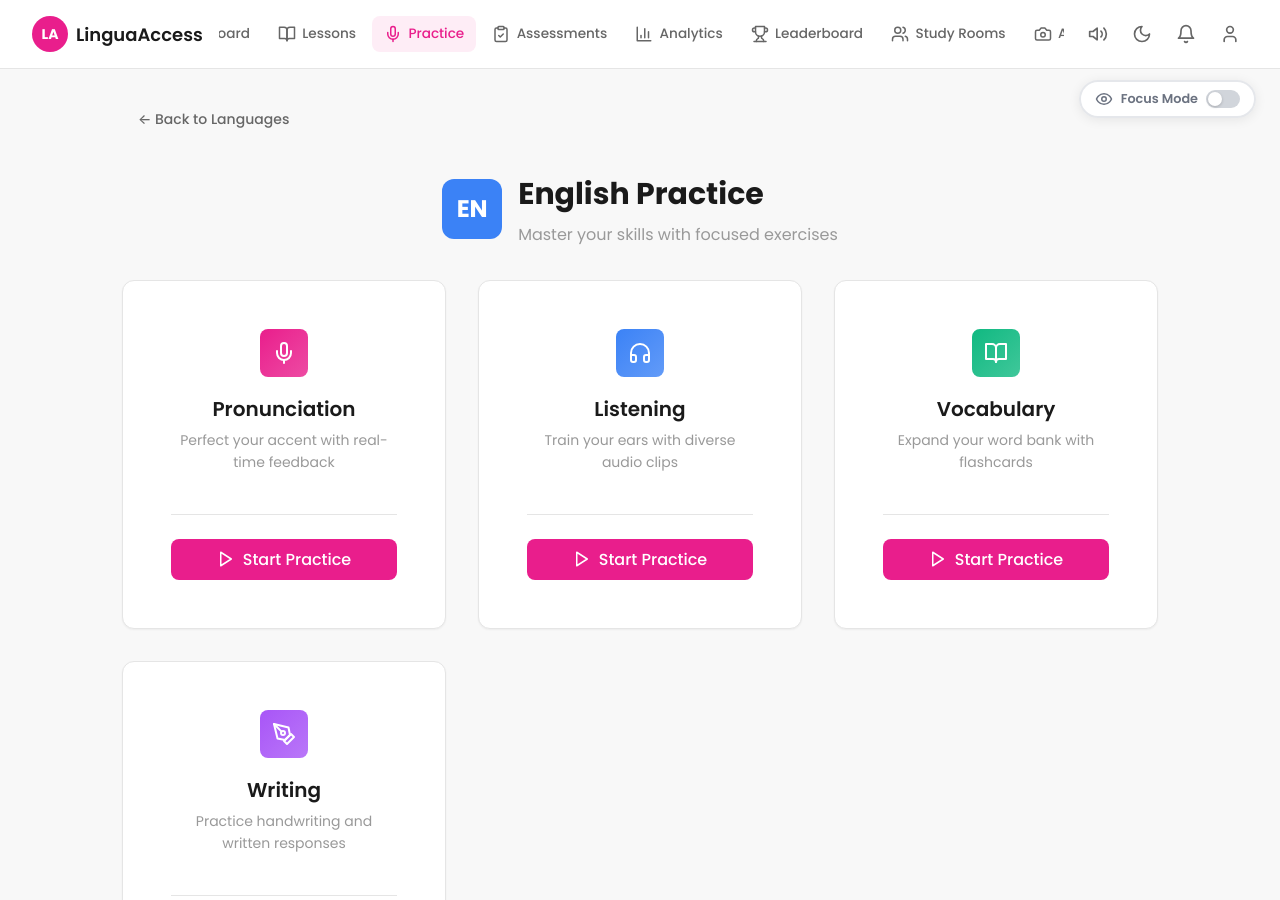
Test: Practice Page — Navigation › can navigate back to languages via back button
The width and height of the screenshot is (1280, 900).
Click the button "← Back to Languages" at (214, 120), box [122,101,305,138]
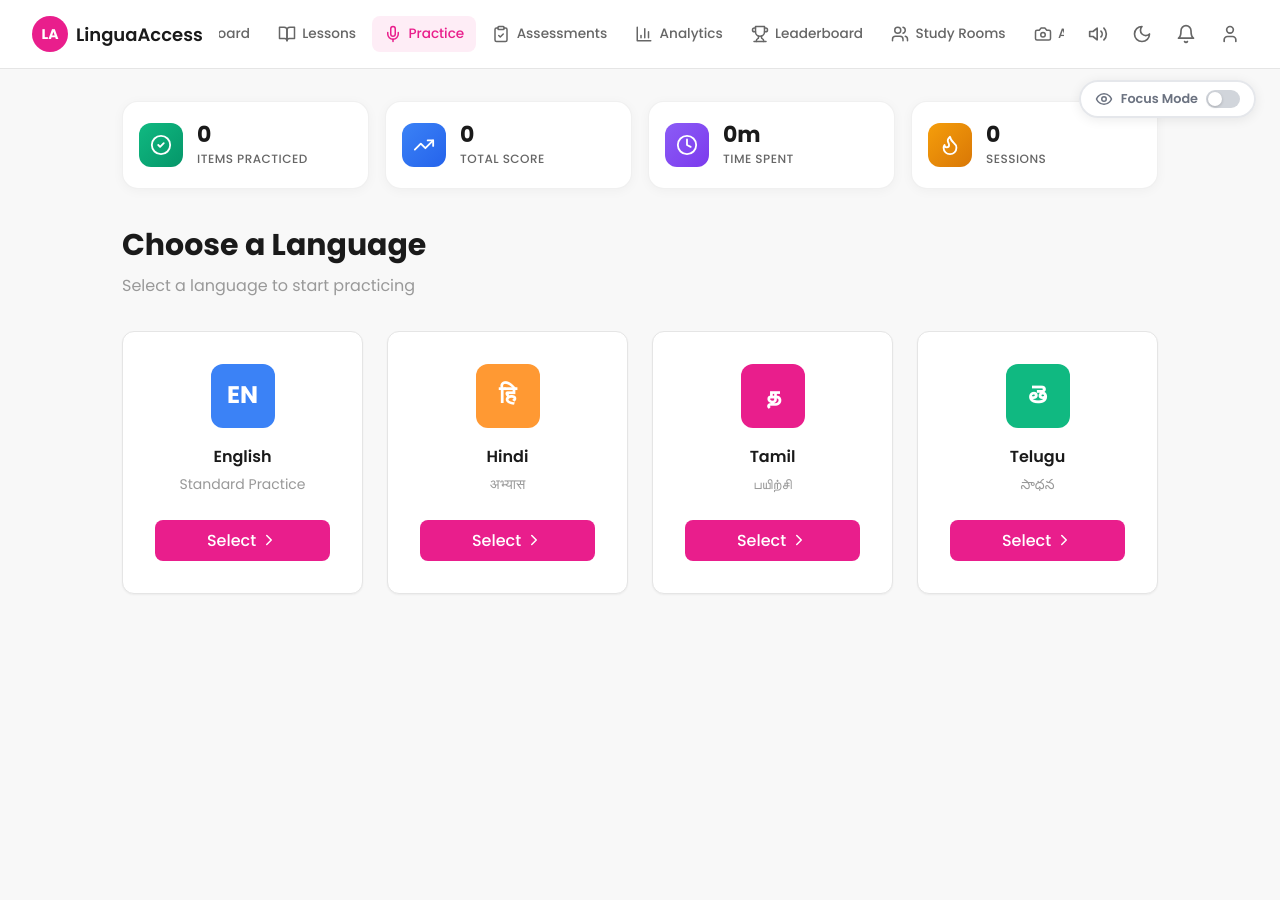
Expected: the heading "Choose a Language" is shown, [122,224,426,266]
